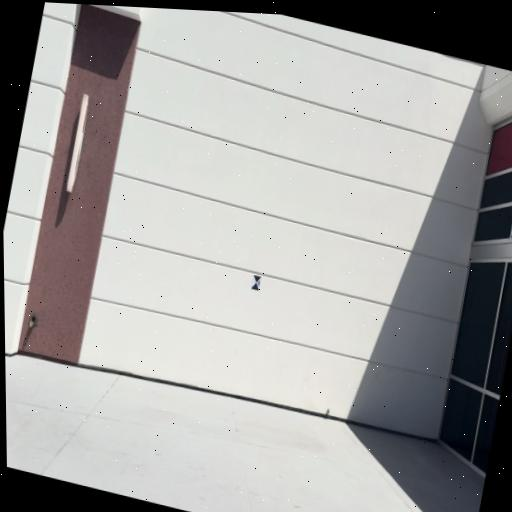target4: (251, 275, 262, 290)
